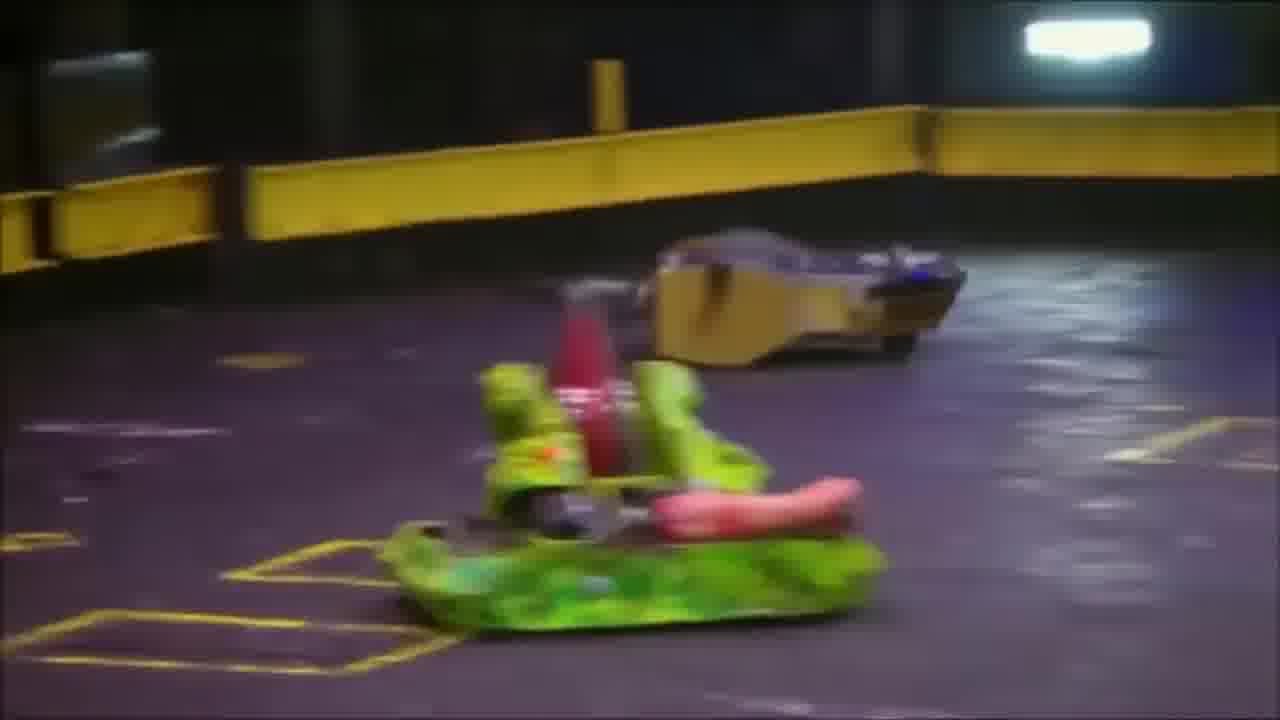combatbot: (378, 357, 893, 633), (649, 229, 970, 373)
